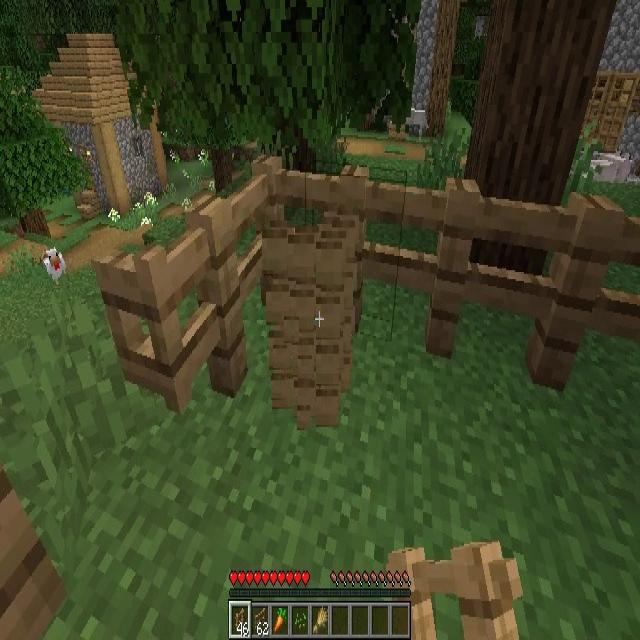duck: (44, 249, 65, 285)
